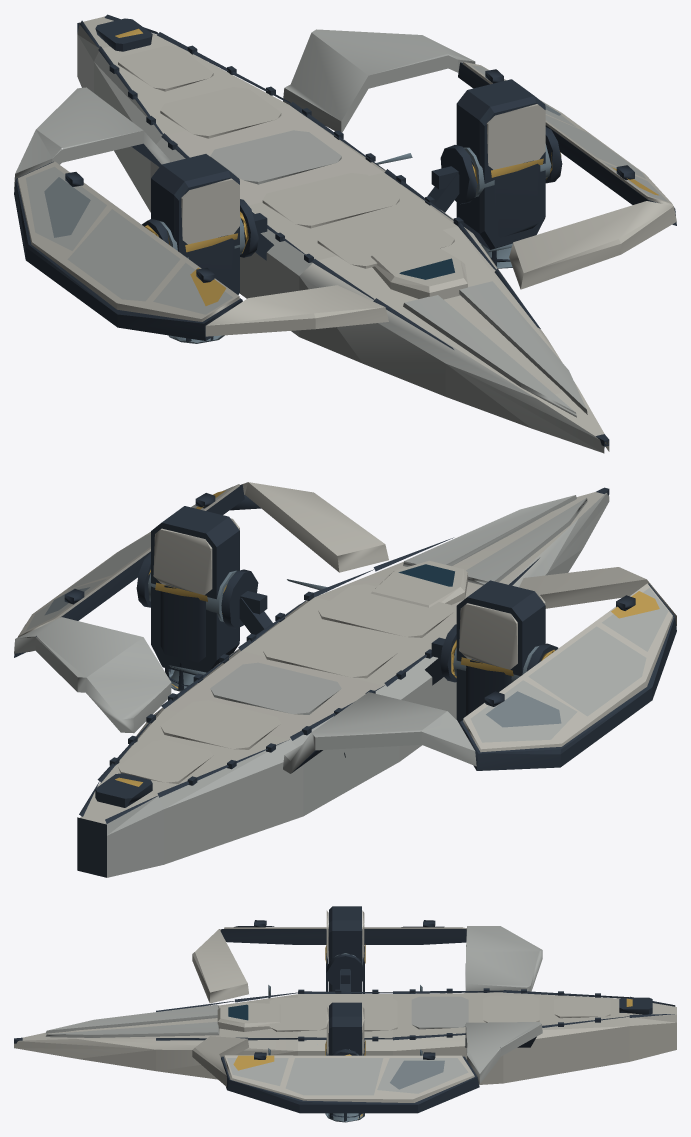
Rendered from shuttle_02_d0_lod2.glb.
3 views of the same model, one above another, from view 1: azimuth 30°, elevation 25°; view 2: azimuth 150°, elevation 25°; view 3: azimuth 270°, elevation 25° (orthographic). The views are drawn at different scales.
Parts seen in each view (by area): view 1: SHUTTLE_DISTANCE_SURFACE; view 2: SHUTTLE_DISTANCE_SURFACE; view 3: SHUTTLE_DISTANCE_SURFACE.
Boxes of the visible parts, x1=… form: SHUTTLE_DISTANCE_SURFACE: x1=14, y1=14, x2=676, y2=453; SHUTTLE_DISTANCE_SURFACE: x1=14, y1=482, x2=676, y2=877; SHUTTLE_DISTANCE_SURFACE: x1=14, y1=906, x2=676, y2=1122.
Size of the model in its own units: 25.2 by 7.65 by 42.
